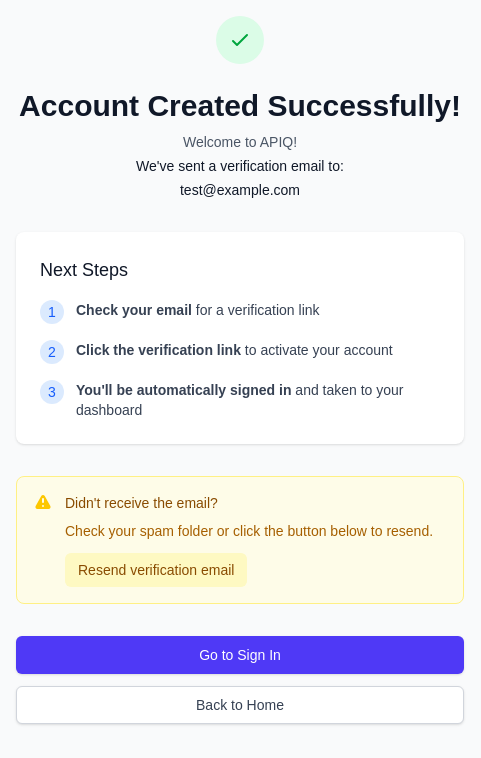
Scenario: SignupSuccessPage › should handle resend verification failure
Click the button "Resend verification email" at (156, 570), box [65,553,247,587]
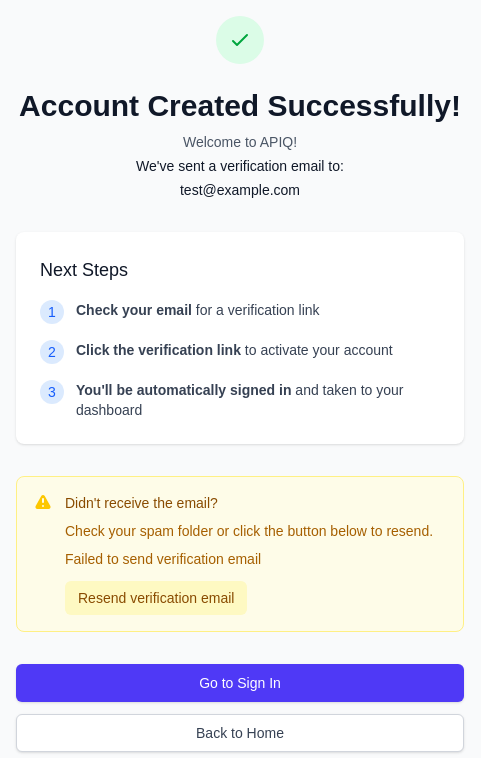
Expected: the text "Failed to send verification email" is shown, [65,551,261,567]
